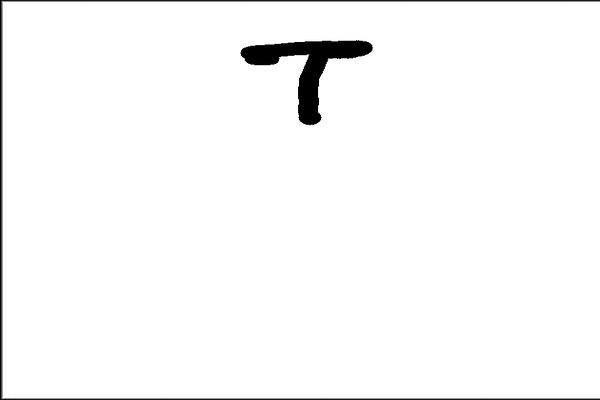T: (235, 33, 383, 129)
